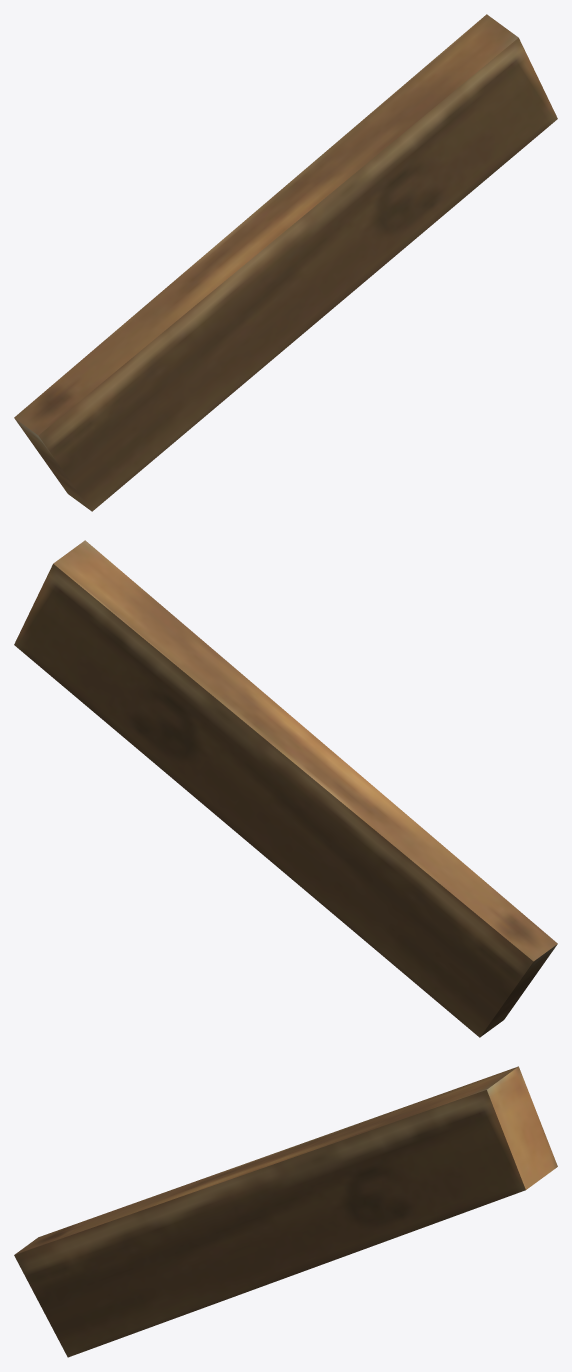
Rendered from Stage_CaoYuan_LiBa02.FBX.
The picture shows the model from 3 angles, top to bottom: view 1: azimuth 30°, elevation 25°; view 2: azimuth 150°, elevation 25°; view 3: azimuth 330°, elevation 25°; orthographic projection.
Visible parts, largest first — view 1: Stage_CaoYuan_LiBa02; view 2: Stage_CaoYuan_LiBa02; view 3: Stage_CaoYuan_LiBa02.
Boxes of the visible parts, x1,y1,x2,y2 form: Stage_CaoYuan_LiBa02: (14,14,557,511); Stage_CaoYuan_LiBa02: (14,540,557,1037); Stage_CaoYuan_LiBa02: (14,1066,557,1357).
Bounding box in the file's own units: 97.77 × 67.71 × 10.51.
